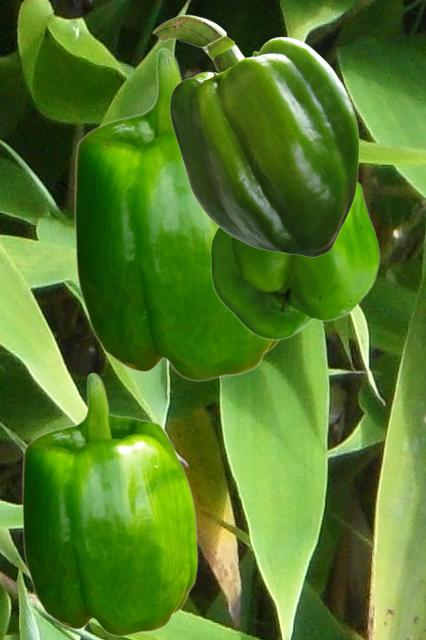bell_pepper: (73, 47, 280, 381), (152, 14, 358, 256), (21, 372, 197, 636), (209, 182, 379, 339)
